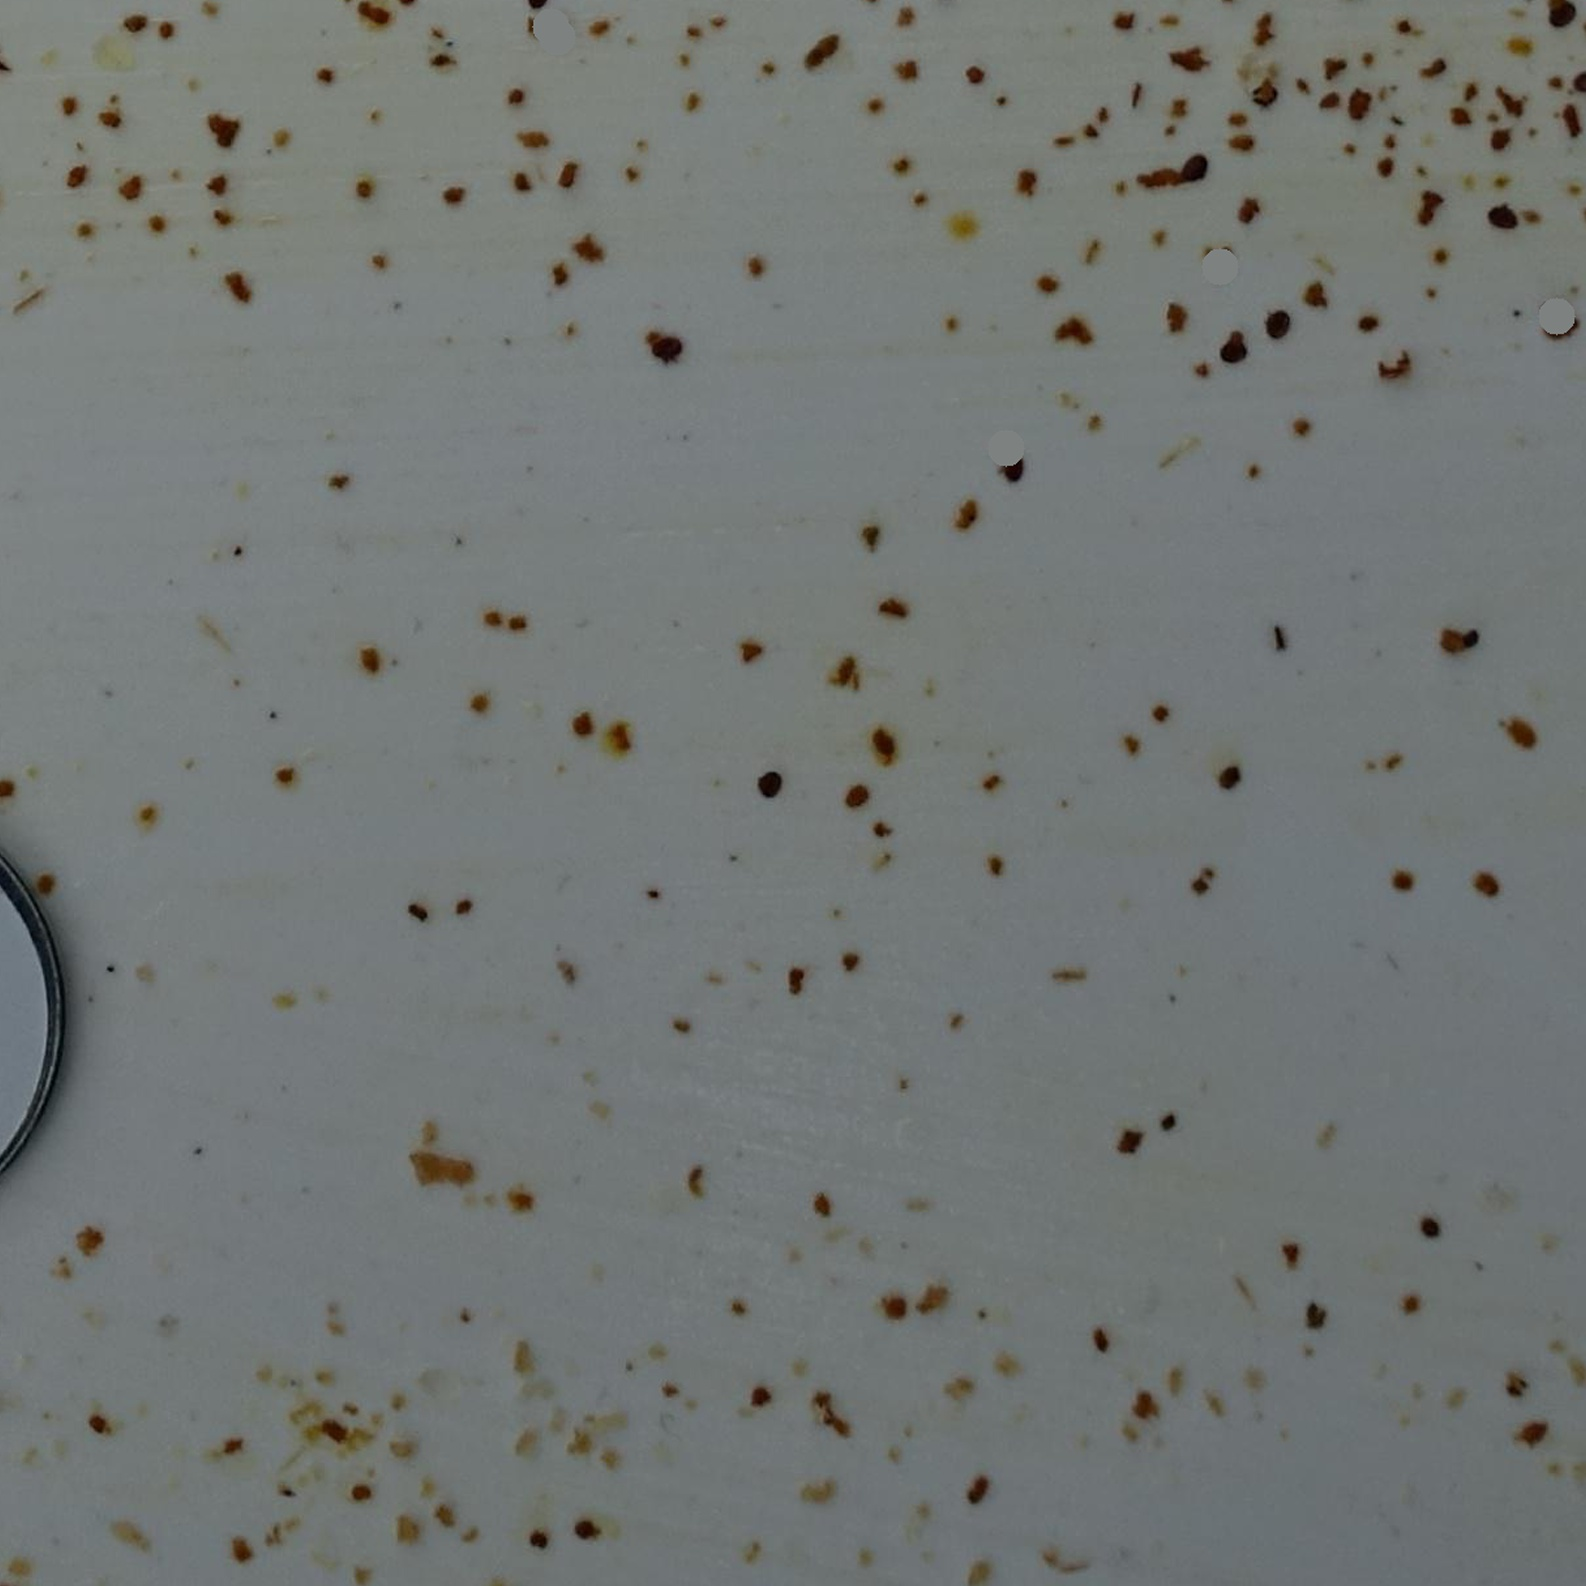Varroa: (1001, 453, 1028, 479), (760, 765, 784, 794), (649, 338, 675, 365), (1221, 335, 1243, 359), (1184, 160, 1204, 184), (1490, 206, 1513, 227), (1269, 315, 1284, 330), (1558, 7, 1569, 20)
